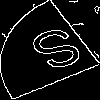S: (25, 25, 95, 81)
